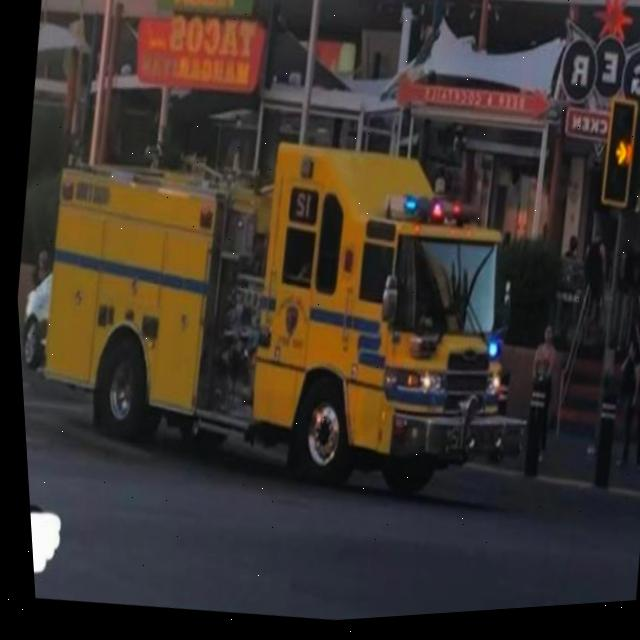emergency: (6, 89, 577, 548)
